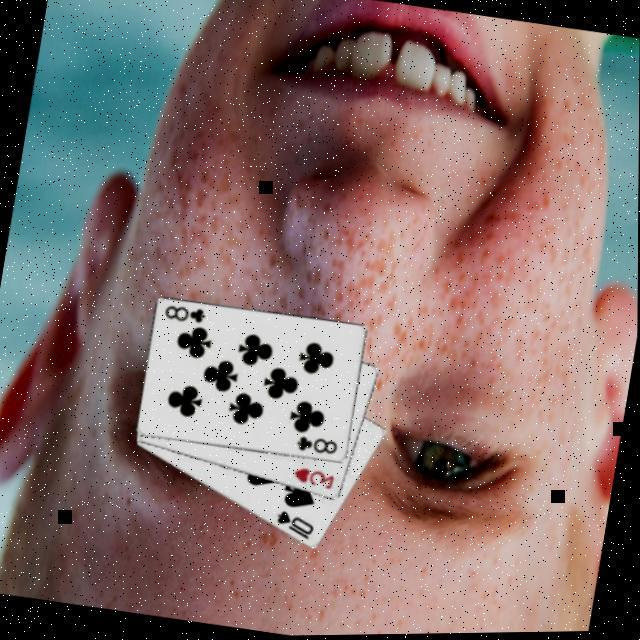10S: (270, 508, 318, 546)
3H: (288, 466, 337, 496)
8C: (291, 434, 340, 462), (159, 302, 208, 330)
